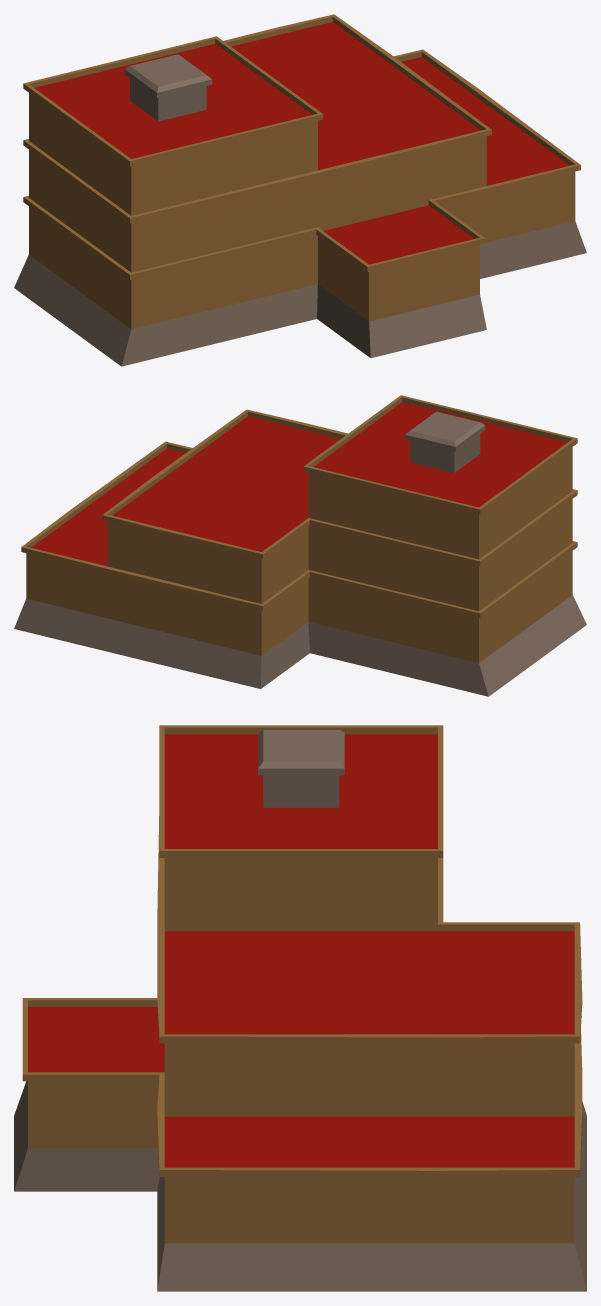
File: house [6].FBX
3 views of the same model, one above another, from view 1: azimuth 30°, elevation 25°; view 2: azimuth 150°, elevation 25°; view 3: azimuth 270°, elevation 25° (orthographic). The views are drawn at different scales.
Parts seen in each view (by area): view 1: Plane001; view 2: Plane001; view 3: Plane001.
Part boxes in pixels (x1,y1,x2,y2): Plane001: [14, 14, 586, 366]; Plane001: [14, 395, 586, 696]; Plane001: [14, 725, 586, 1291].
Size of the model in its own units: 186 by 88.43 by 149.
Materials: 1 (1 with a texture image).
